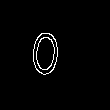O_S: (38, 24, 72, 86)
